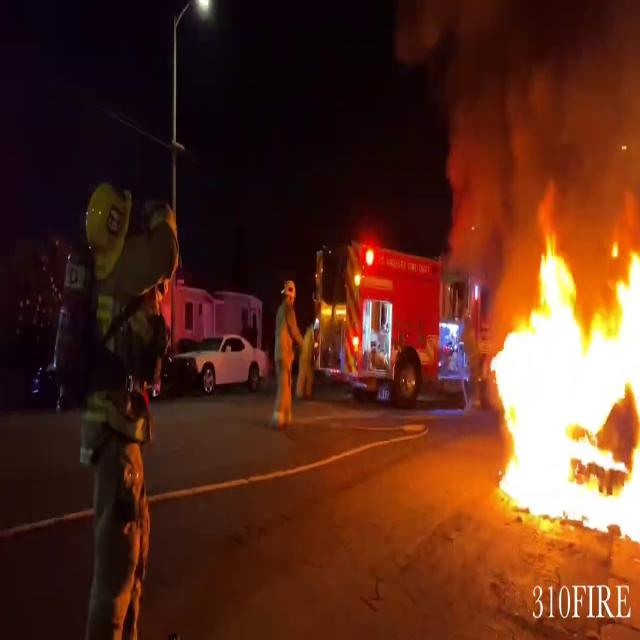Fire: (483, 225, 640, 541)
Smoke: (394, 0, 640, 246)
